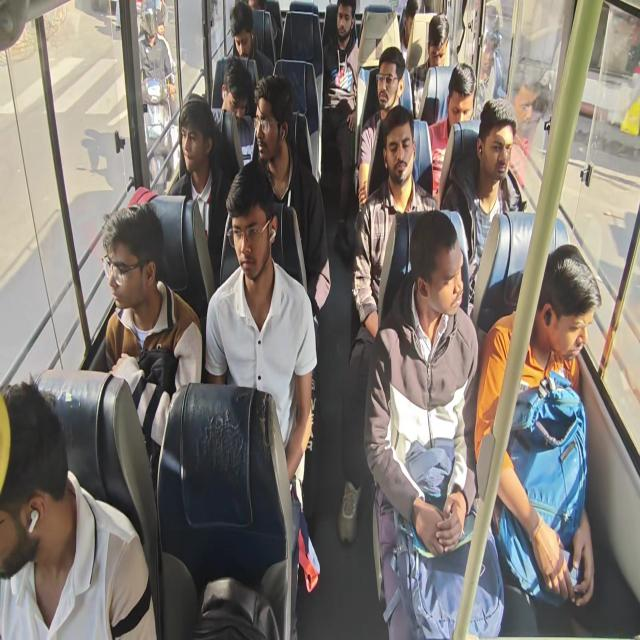person: (4, 1, 606, 638), (363, 210, 505, 638), (474, 244, 601, 606), (337, 105, 441, 544), (0, 378, 158, 639), (204, 160, 318, 492), (101, 202, 203, 485), (251, 74, 331, 314), (441, 97, 523, 316), (167, 98, 233, 290), (321, 0, 360, 260), (356, 46, 406, 209), (419, 61, 476, 200), (138, 6, 176, 186), (211, 56, 257, 167), (410, 12, 451, 118), (227, 0, 274, 84), (473, 4, 506, 118), (399, 0, 425, 53)
